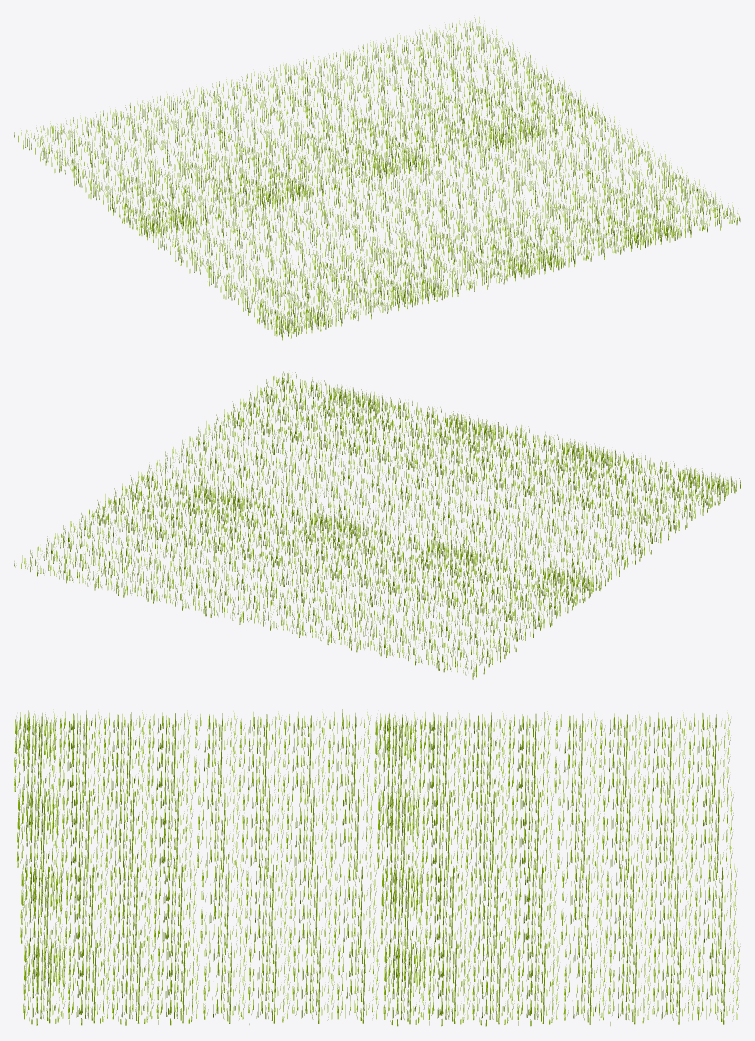
File: Plantas.fbx
3 views of the same model, one above another, from view 1: azimuth 30°, elevation 25°; view 2: azimuth 150°, elevation 25°; view 3: azimuth 270°, elevation 25° (orthographic). The views are drawn at different scales.
Visible parts, largest first — view 1: Vegetation_Grass_2D_Patch_Square_01; view 2: Vegetation_Grass_2D_Patch_Square_01; view 3: Vegetation_Grass_2D_Patch_Square_01.
Boxes of the visible parts, x1=… form: Vegetation_Grass_2D_Patch_Square_01: x1=14, y1=17, x2=740, y2=340; Vegetation_Grass_2D_Patch_Square_01: x1=14, y1=371, x2=740, y2=679; Vegetation_Grass_2D_Patch_Square_01: x1=14, y1=709, x2=740, y2=1026.
Bounding box in the file's own units: 3566 × 91.14 × 3608.
